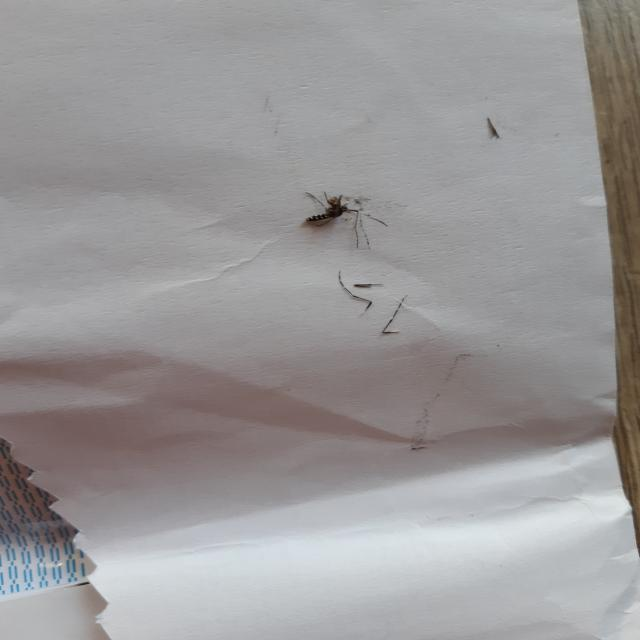albopictus: (295, 185, 393, 252)
